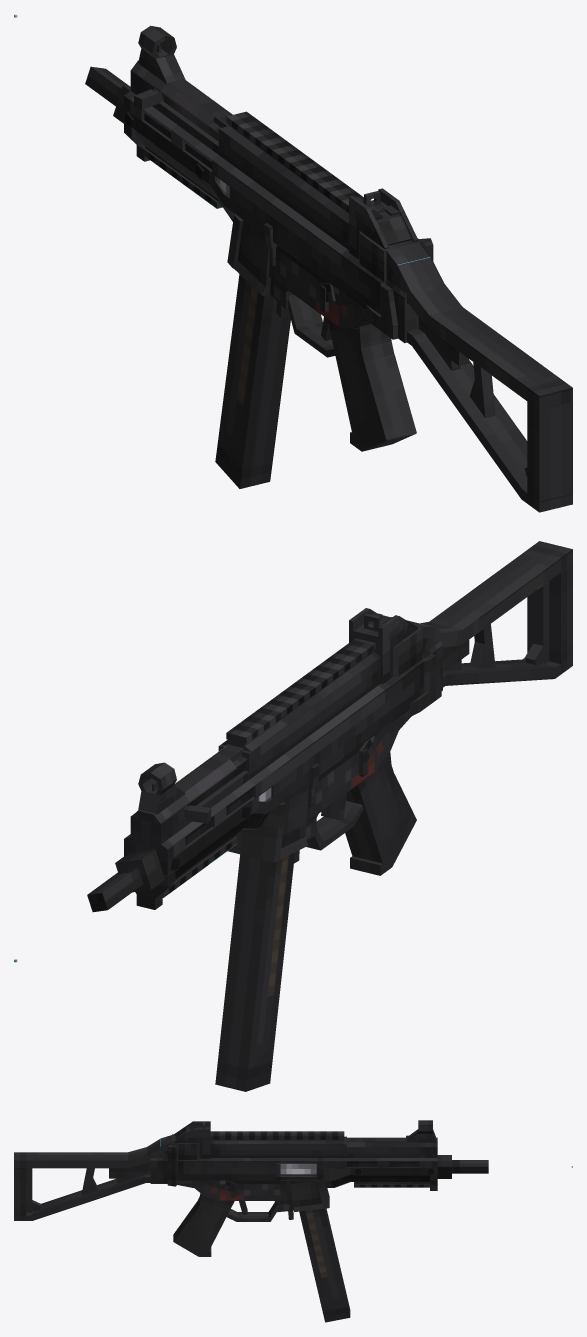
File: ump45.fbx
The picture shows the model from 3 angles, top to bottom: view 1: azimuth 30°, elevation 25°; view 2: azimuth 150°, elevation 25°; view 3: azimuth 270°, elevation 25°; orthographic projection. The views are drawn at different scales.
Parts seen in each view (by area): view 1: gun, magazine, frontsight, bolt; view 2: gun, magazine, frontsight, bolt; view 3: gun, magazine, frontsight, action.
Part boxes in pixels (x1,y1,x2,y2): gun: (85,60,572,512); magazine: (215,274,290,488); frontsight: (138,25,185,84); bolt: (134,89,221,141); gun: (87,541,572,912); magazine: (215,852,294,1091); frontsight: (138,762,185,814); bolt: (184,756,247,823); gun: (14,1121,488,1256); magazine: (299,1208,350,1322); frontsight: (406,1120,436,1142); action: (280,1163,316,1174).
Size of the model in its own units: 41.73 by 225 by 577.
